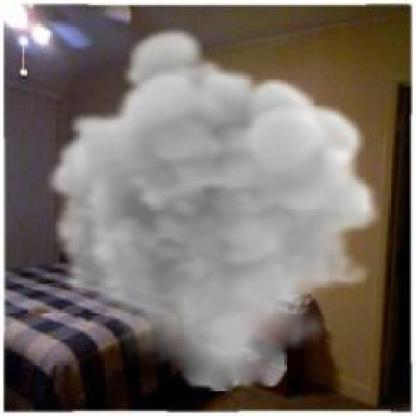Smoke: (47, 25, 383, 393)
